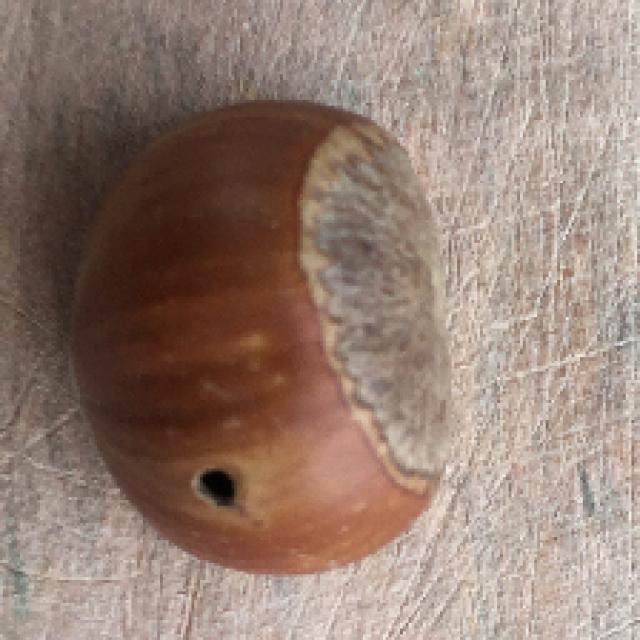damagedHazelnut: (66, 88, 479, 582)
